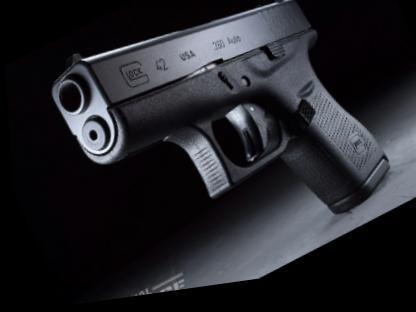pistol: (29, 0, 399, 306)
